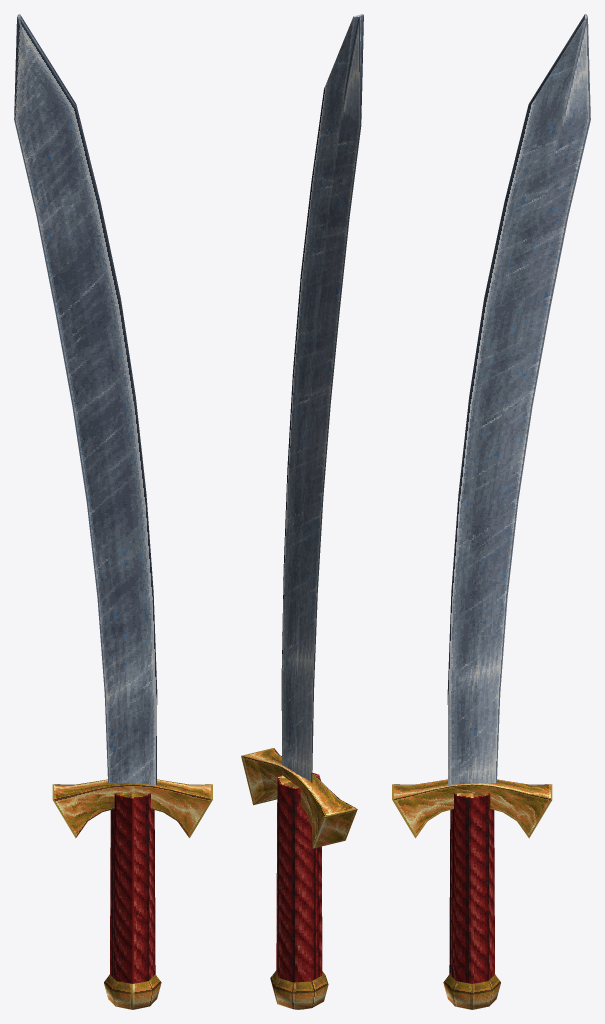
Rendered from scimitar.glb.
3 renders of one model, left to right at view 1: azimuth 90°, elevation 25°; view 2: azimuth 210°, elevation 25°; view 3: azimuth 270°, elevation 25°, orthographic. The views are drawn at different scales.
Parts seen in each view (by area): view 1: scimitar; view 2: scimitar; view 3: scimitar.
Boxes of the visible parts, x1=… form: scimitar: x1=14, y1=14, x2=212, y2=1009; scimitar: x1=241, y1=14, x2=363, y2=1009; scimitar: x1=392, y1=14, x2=590, y2=1009.
Size of the model in its own units: 0.038 by 0.7182 by 0.1305.
Materials: 1 (1 with a texture image).
